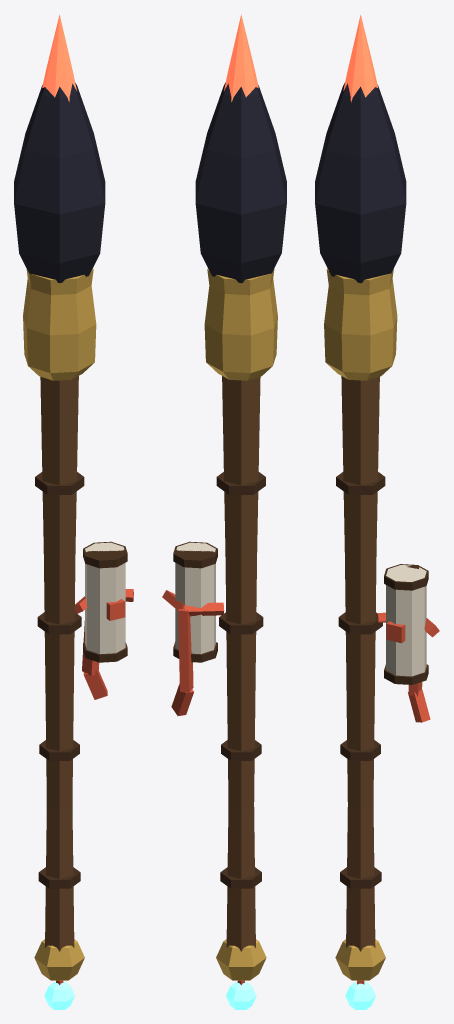
Rendered from weapon_myeongbu.glb.
The picture shows the model from 3 angles, left to right: view 1: azimuth 30°, elevation 25°; view 2: azimuth 150°, elevation 25°; view 3: azimuth 330°, elevation 25°; orthographic projection.
Visible parts, largest first — view 1: weapon_myeongbu; view 2: weapon_myeongbu; view 3: weapon_myeongbu.
Boxes of the visible parts, <box> form: weapon_myeongbu: <box>14,14,133,1009</box>; weapon_myeongbu: <box>162,14,286,1009</box>; weapon_myeongbu: <box>315,15,439,1009</box>.
Size of the model in its own units: 0.2009 by 1.56 by 0.1297.
